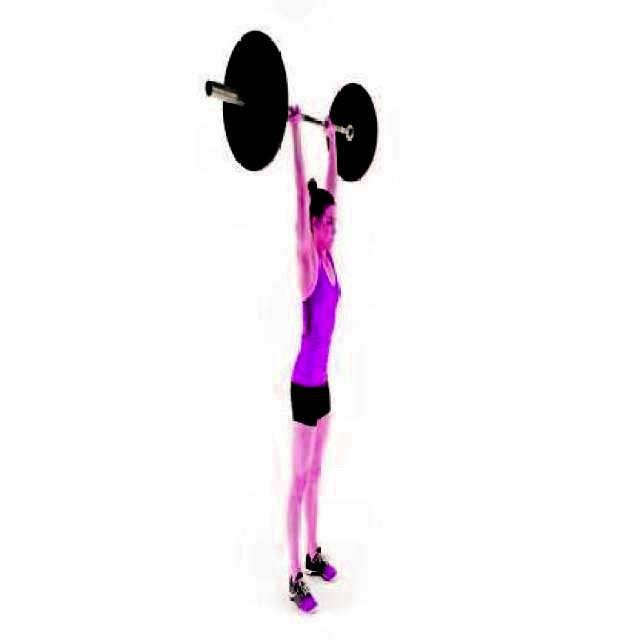barbell: (202, 22, 287, 176)
